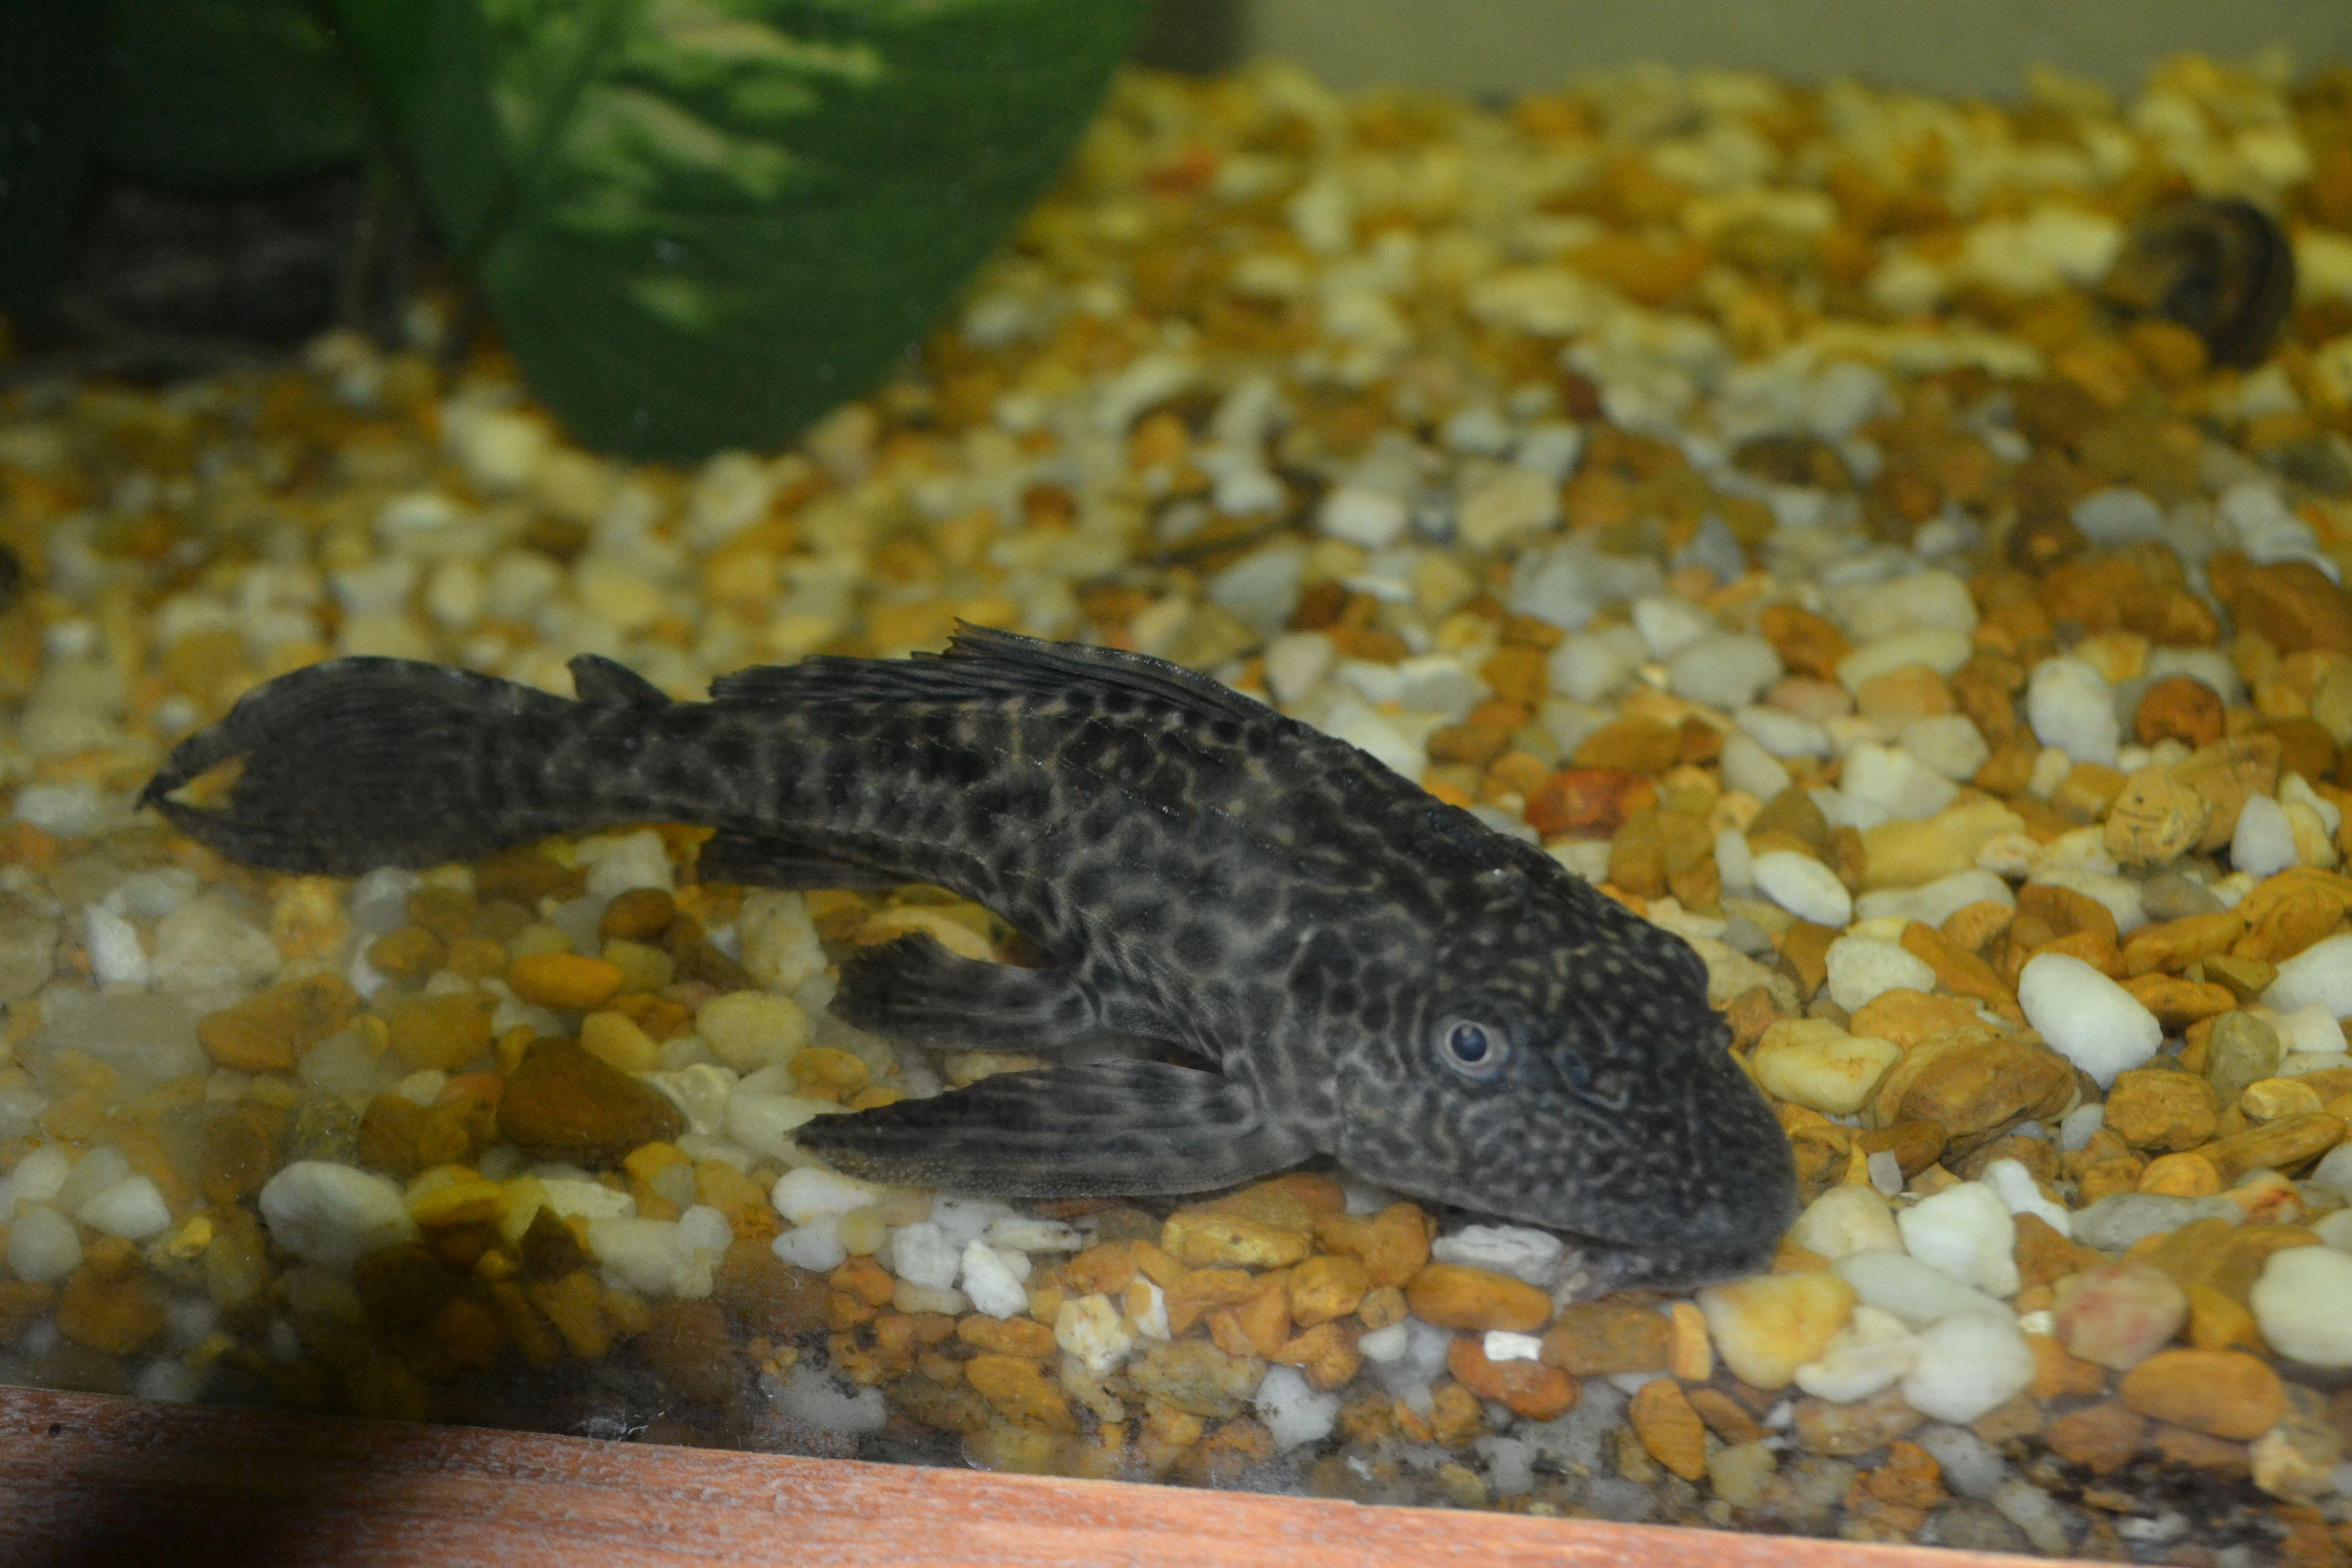Janitor Fish: (145, 607, 1837, 1297)
